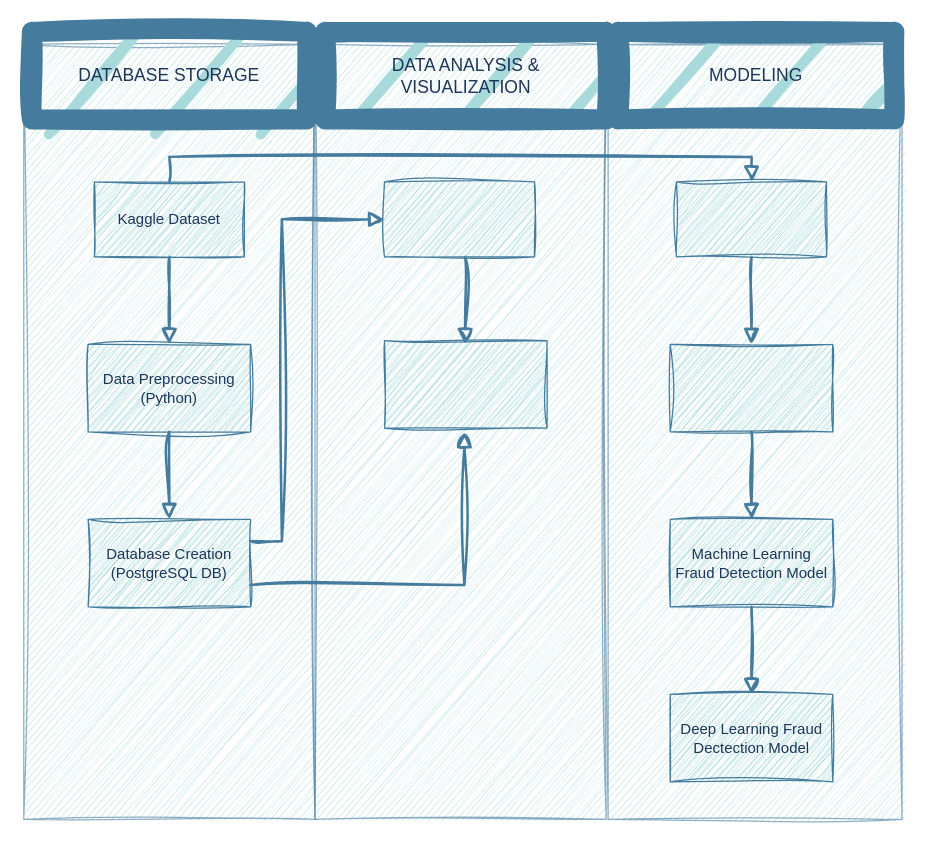
Some shapes in this 925 by 841 pixel diagram are drawn without their labels. Here are the shapes that lost their labels. From the top down, the centre of each, then its label:
At point (458, 219): "SQL Data Analysis Queries".
At point (750, 219): "Feature Selection".
At point (465, 383): "Tableau Storytelling".
At point (751, 387): "Customer Segmentation".
